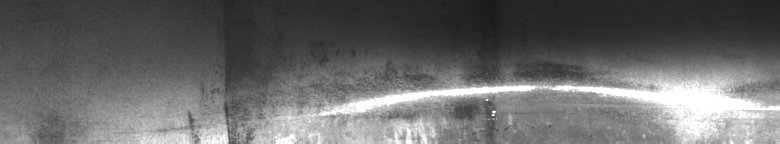ke: (319, 72, 632, 124)
